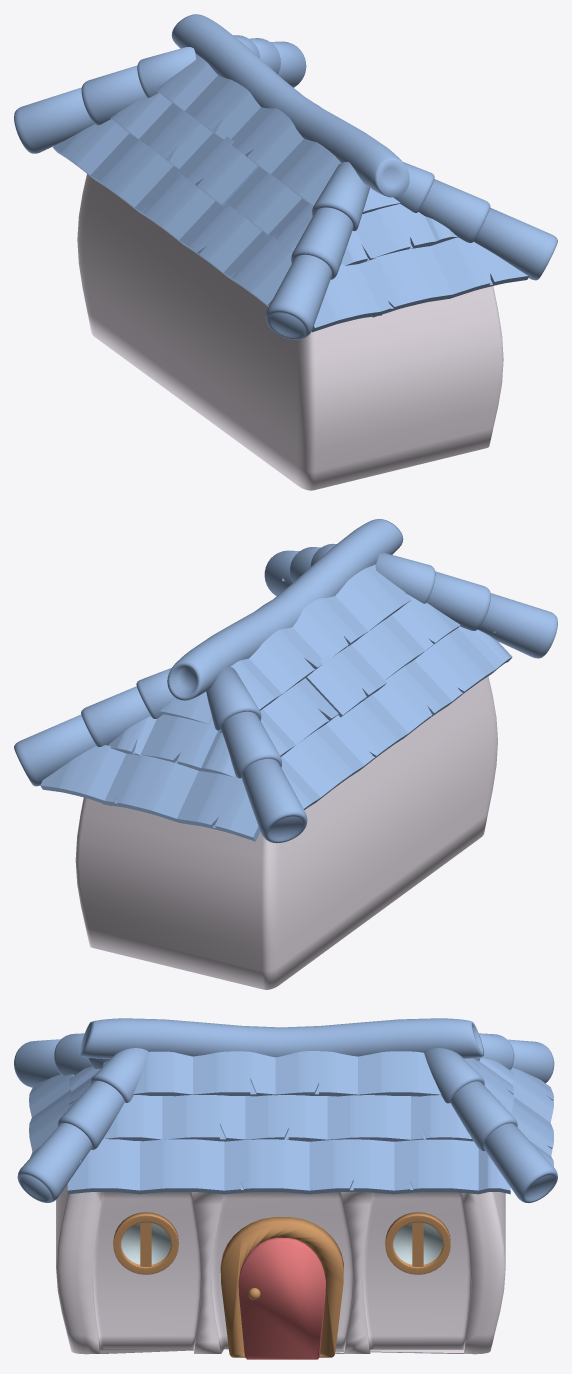
File: Haus.fbx
3 views of the same model, one above another, from view 1: azimuth 30°, elevation 25°; view 2: azimuth 150°, elevation 25°; view 3: azimuth 270°, elevation 25° (orthographic). The views are drawn at different scales.
Parts seen in each view (by area): view 1: Haus.004; view 2: Haus.004; view 3: Haus.004.
Boxes of the visible parts, box(x1,y1,x2,y2) form: Haus.004: box(14, 14, 557, 490); Haus.004: box(14, 519, 557, 989); Haus.004: box(14, 1018, 557, 1359).
Bounding box in the file's own units: 277 × 279 × 471.
